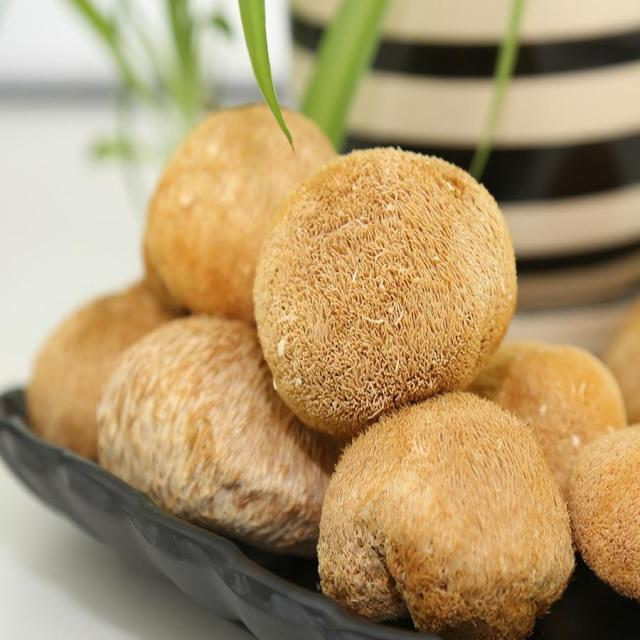Hericium erinaceus: (252, 150, 514, 417), (311, 394, 574, 638), (100, 319, 320, 549), (143, 103, 336, 325), (474, 341, 626, 512), (29, 286, 173, 460), (575, 426, 640, 595)
